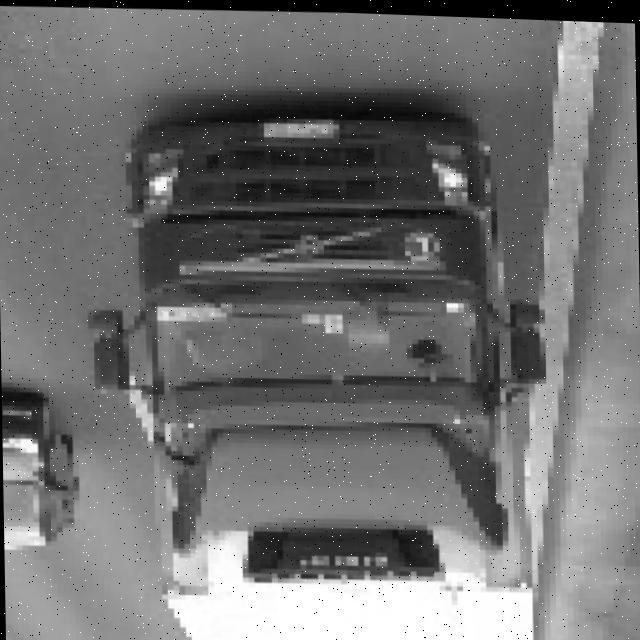truck: (78, 97, 550, 555)
